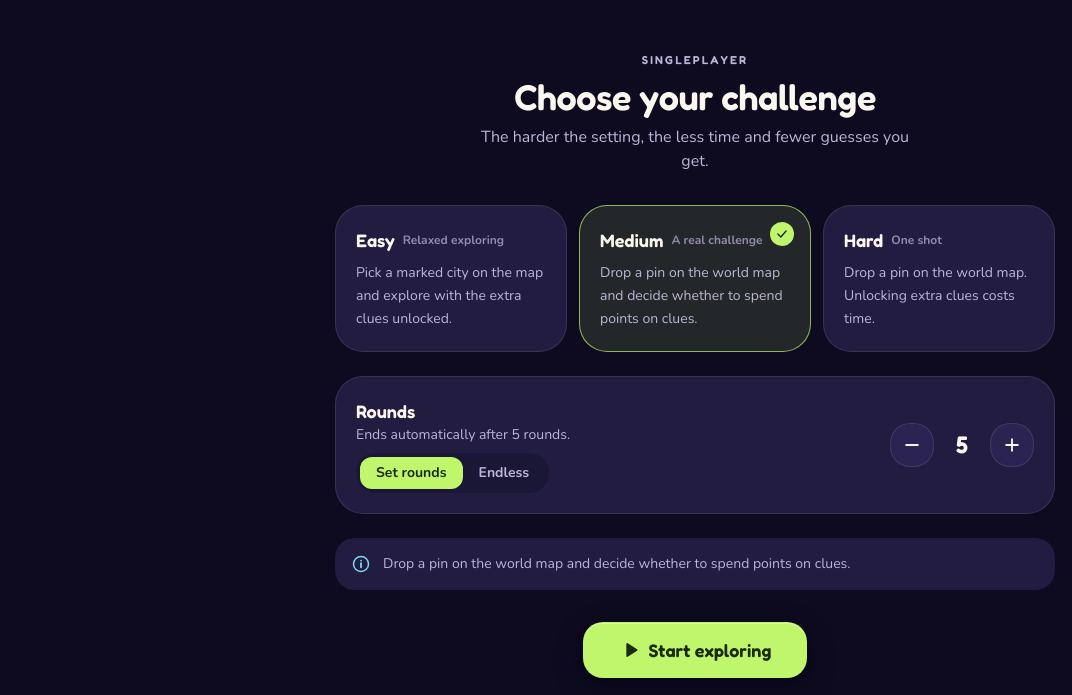
it: SingleplayerPage round count selection › retries transient cold-start gateway errors when starting a game
The image size is (1072, 695).
Click the button "Start exploring" at [695, 650], box [583, 622, 807, 678]
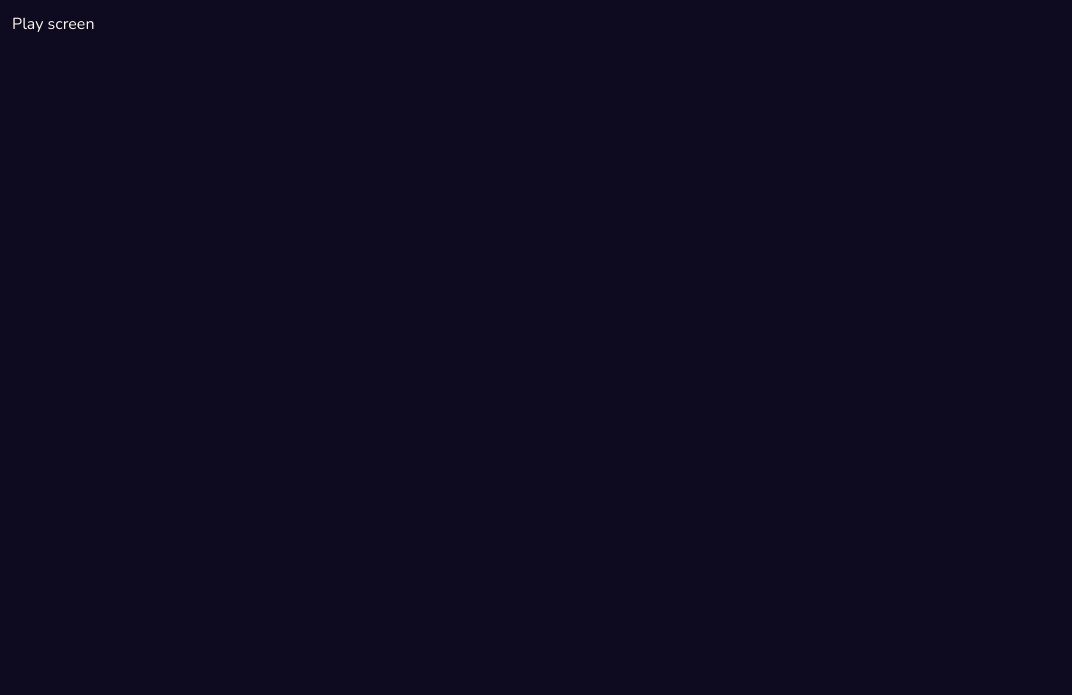
Now the text "Play screen" is shown, box [12, 13, 94, 35]
